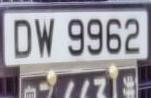2: (124, 13, 143, 62)
6: (104, 14, 124, 61)
9: (65, 13, 86, 65), (85, 14, 106, 64)
D: (10, 13, 36, 66)
W: (34, 13, 59, 66)
